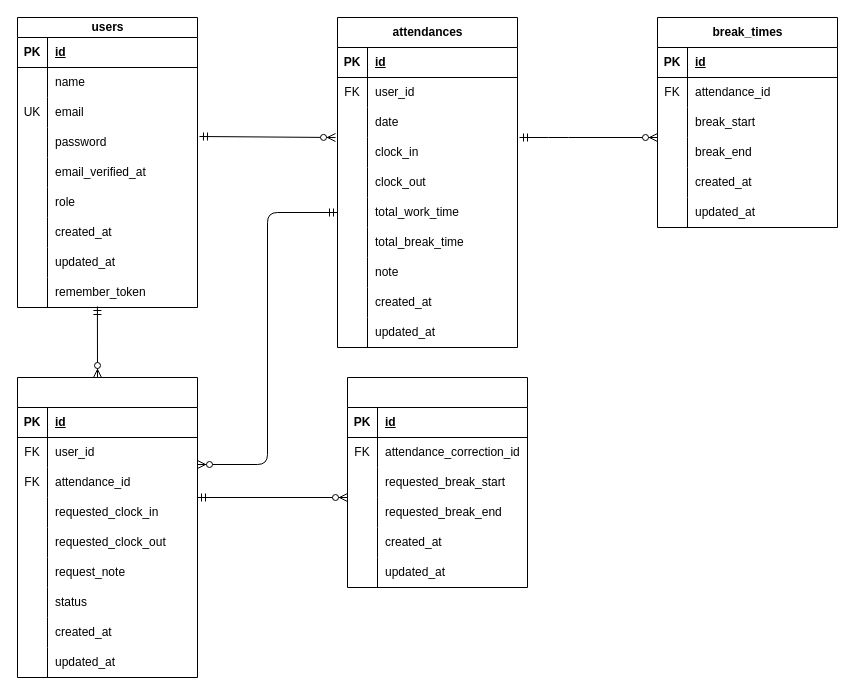
Image size: 855x695. Some labels were removed from this diagram. The box of each missing label's shape, as (x1, y1, x2, y2) in pixels:
attendance_corrections: (16, 376, 198, 678)
correction_breaks: (346, 376, 528, 588)
